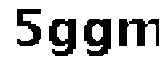5: (12, 4, 44, 50)
g: (80, 16, 113, 60), (47, 16, 77, 60)
m: (117, 14, 160, 54)
